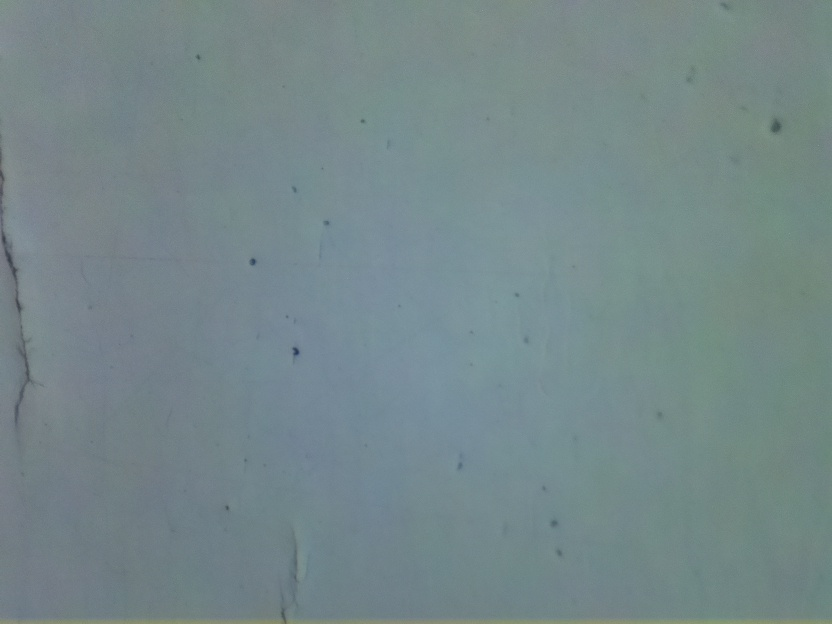crack: (0, 171, 33, 427)
